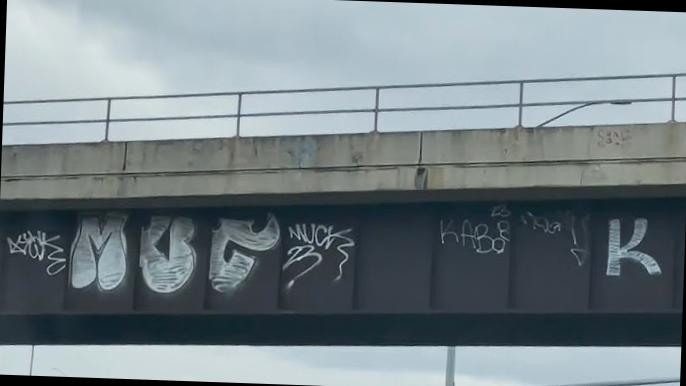graffiti: (136, 215, 205, 306), (206, 215, 279, 293), (281, 223, 353, 291), (71, 213, 127, 290), (520, 209, 588, 265), (440, 206, 509, 253), (606, 218, 660, 276), (6, 229, 67, 275)
